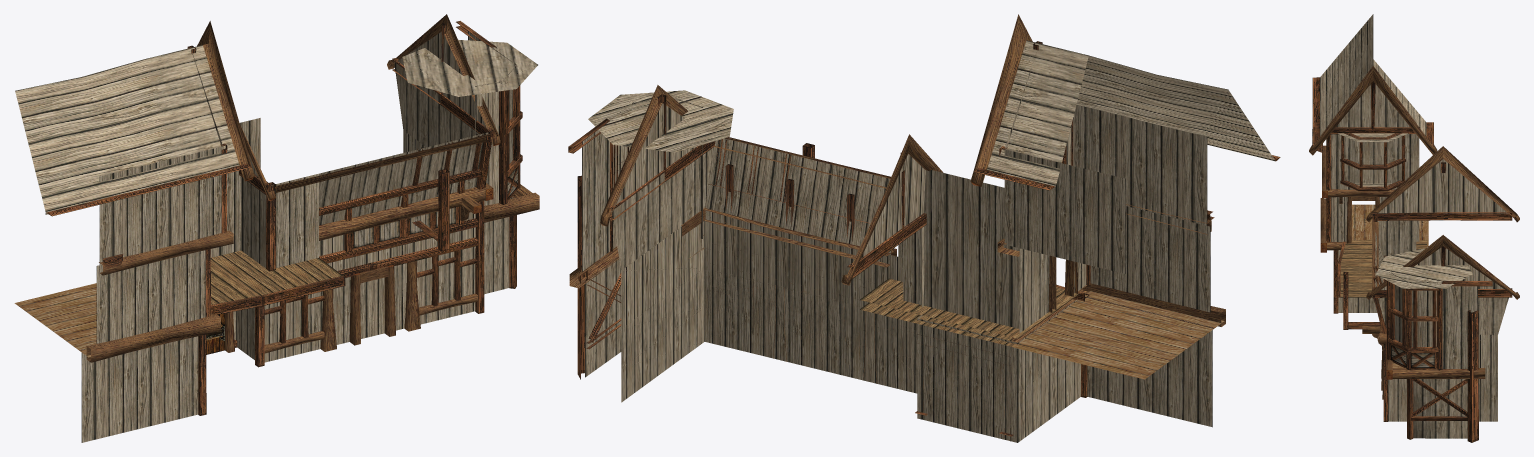
The model's file is LAKETOWN_EXTERIOR_PS_LT_BACKHOUSE84746__GX.obj.
3 renders of one model, left to right at view 1: azimuth 30°, elevation 25°; view 2: azimuth 150°, elevation 25°; view 3: azimuth 270°, elevation 25°, orthographic. The views are drawn at different scales.
Visible parts, largest first — view 1: khouse84746__GX; view 2: khouse84746__GX; view 3: khouse84746__GX.
Boxes of the visible parts, left/top/right/bottom form: khouse84746__GX: left=14, top=14, right=539, bottom=442; khouse84746__GX: left=568, top=14, right=1280, bottom=442; khouse84746__GX: left=1309, top=14, right=1519, bottom=442.
Bounding box in the file's own units: 2208 × 1404 × 1032.
